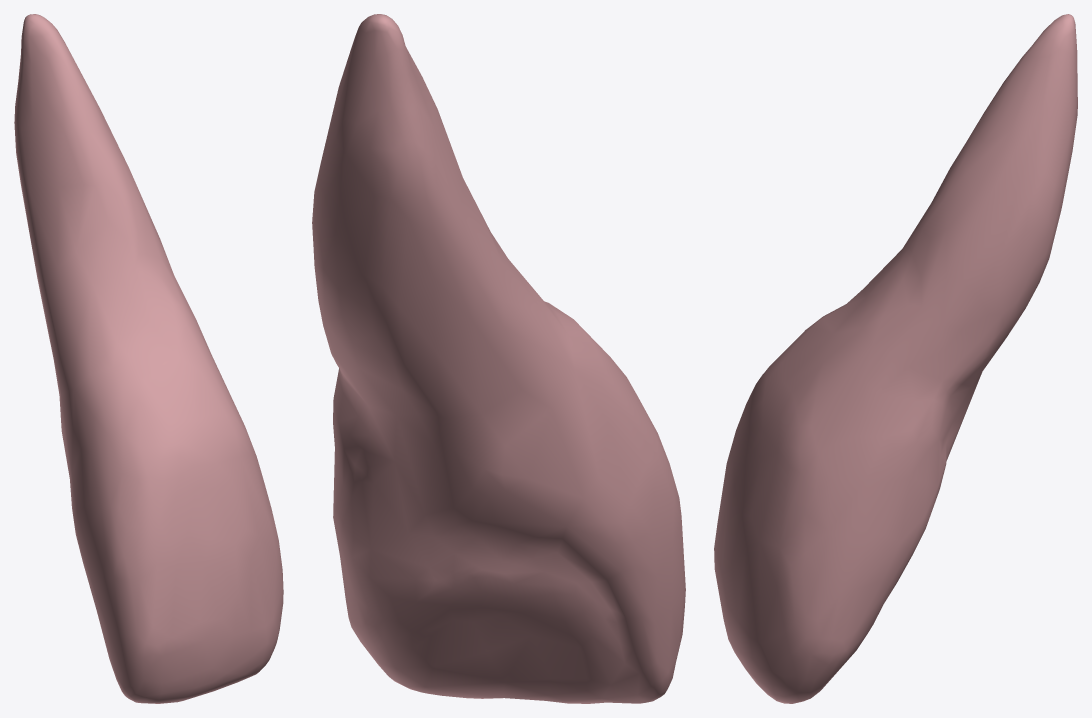
Rendered from fma55682_mm822.glb.
3 views of the same model, side by side, from view 1: azimuth 30°, elevation 25°; view 2: azimuth 150°, elevation 25°; view 3: azimuth 270°, elevation 25° (orthographic). The views are drawn at different scales.
Parts seen in each view (by area): view 1: FMA55682_MM822; view 2: FMA55682_MM822; view 3: FMA55682_MM822.
Part boxes in pixels (left/top/right/bottom): FMA55682_MM822: left=14, top=14, right=283, bottom=703; FMA55682_MM822: left=312, top=14, right=685, bottom=703; FMA55682_MM822: left=714, top=14, right=1077, bottom=703.
Size of the model in its own units: 0.00808 by 0.0229 by 0.0118.
